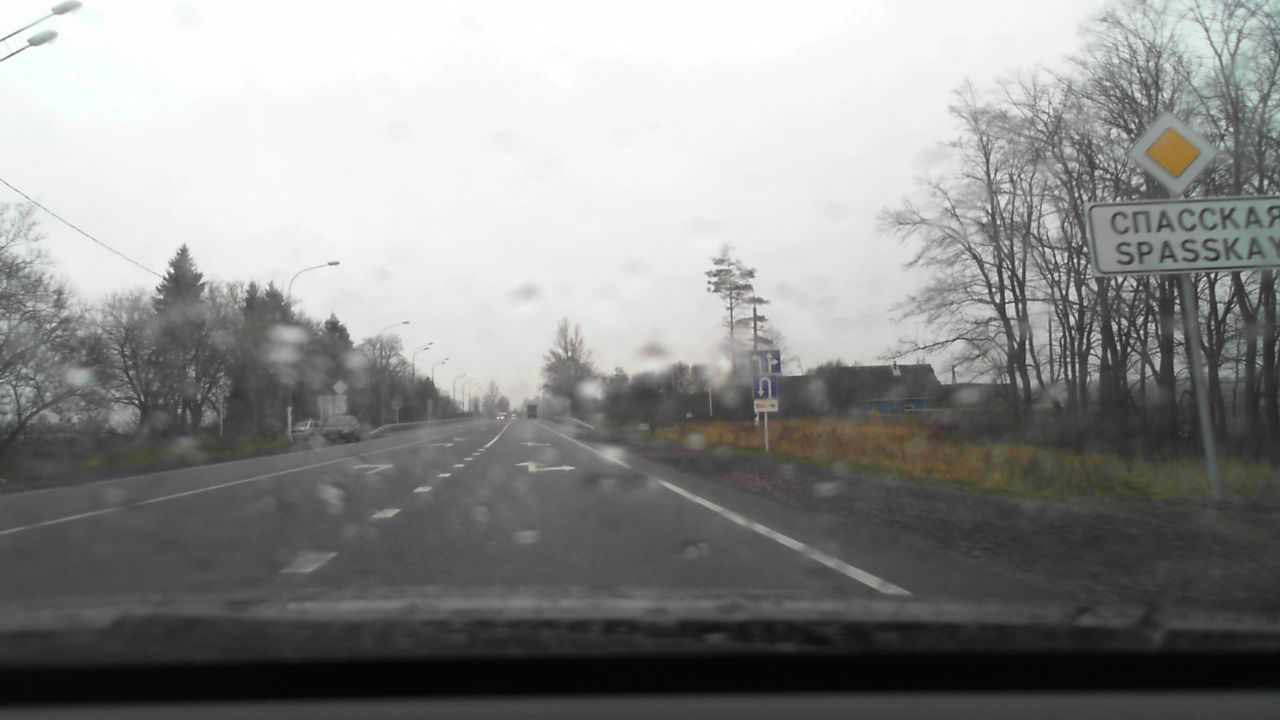U-turn: (753, 374, 778, 400)
